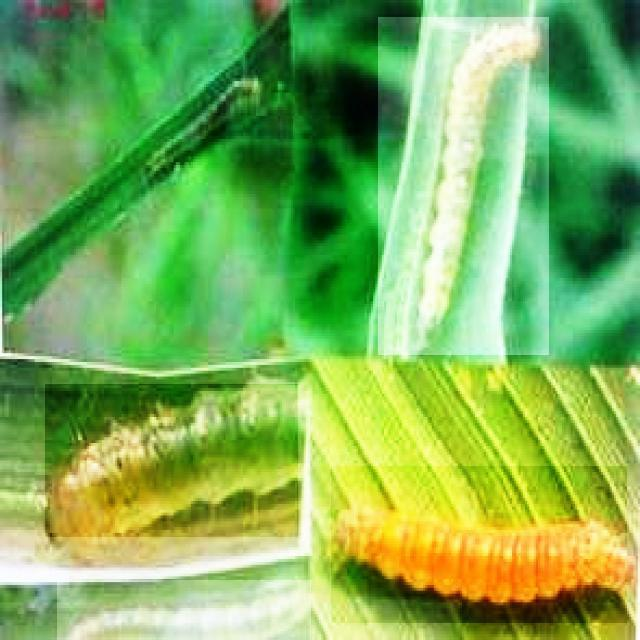leaf-folder: (378, 17, 549, 355), (331, 466, 627, 623), (45, 384, 298, 537), (143, 52, 271, 187), (57, 580, 311, 640)
